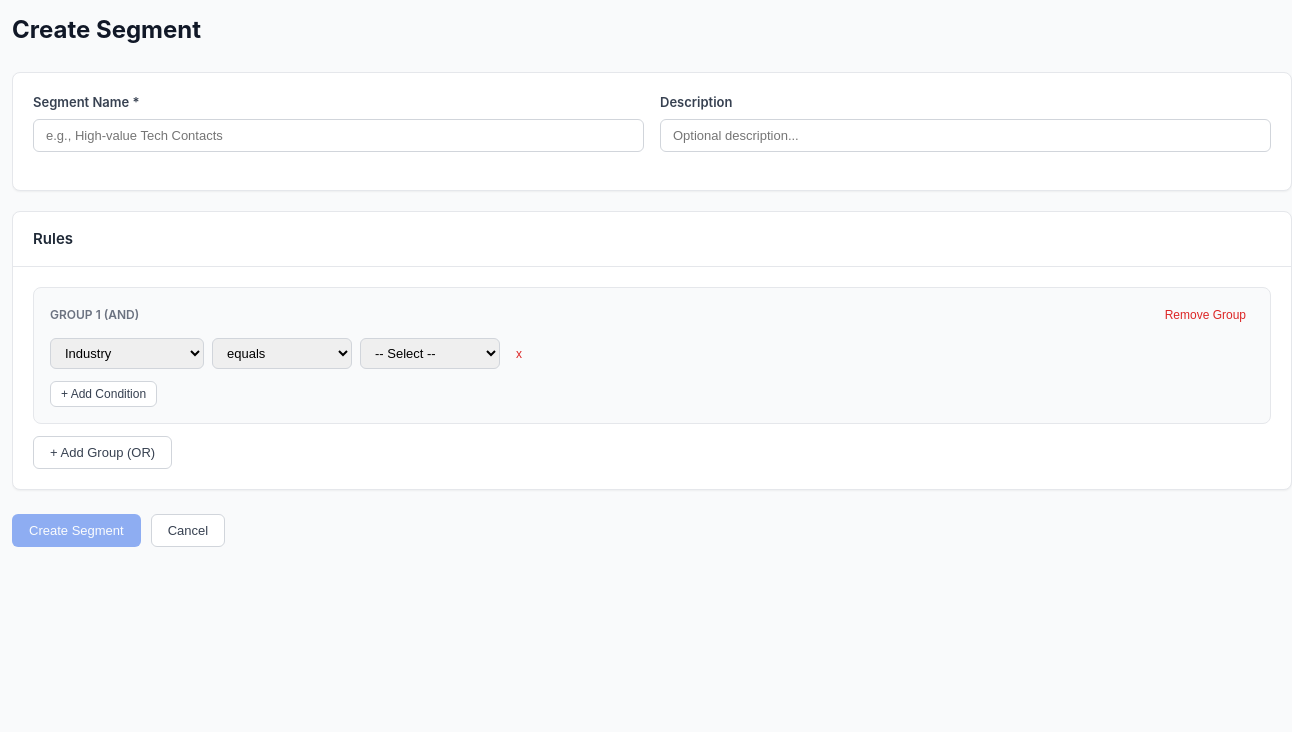
Test: SegmentBuilder component › changes available operators when field changes
The image size is (1292, 732).
Default field is "industry" with "equals" operator
Select "Engagement Score" in the 1st dropdown showing "Industry". click: coordinates (127, 354)
box: [50, 338, 204, 369]
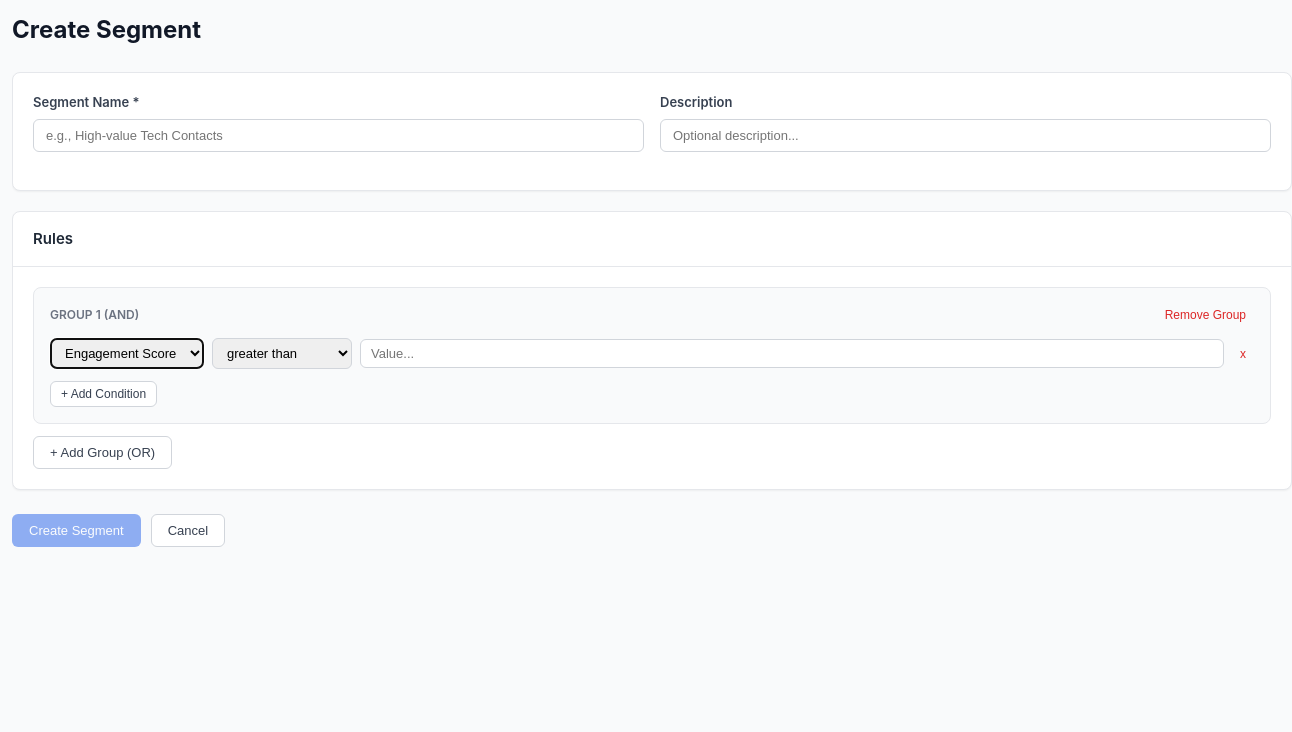
Now the 2nd dropdown showing "greater than" is shown, box [212, 338, 352, 369]
